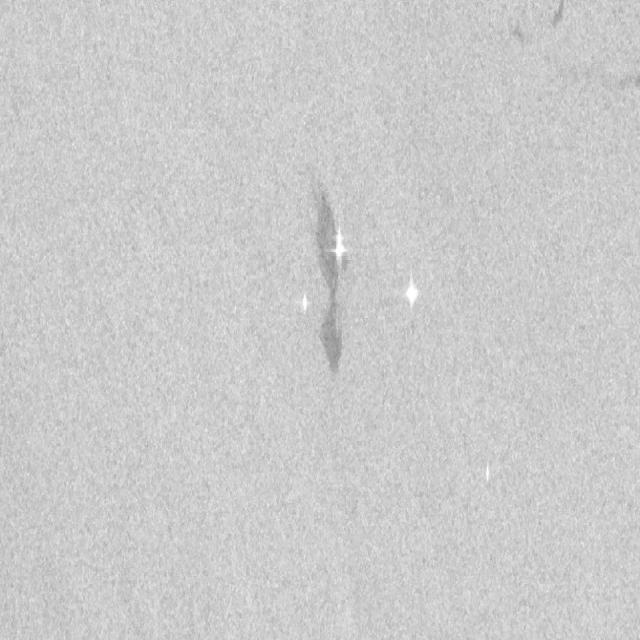oil-spill: (312, 192, 353, 383)
ship: (328, 220, 351, 272), (401, 265, 422, 316), (298, 286, 312, 322)
